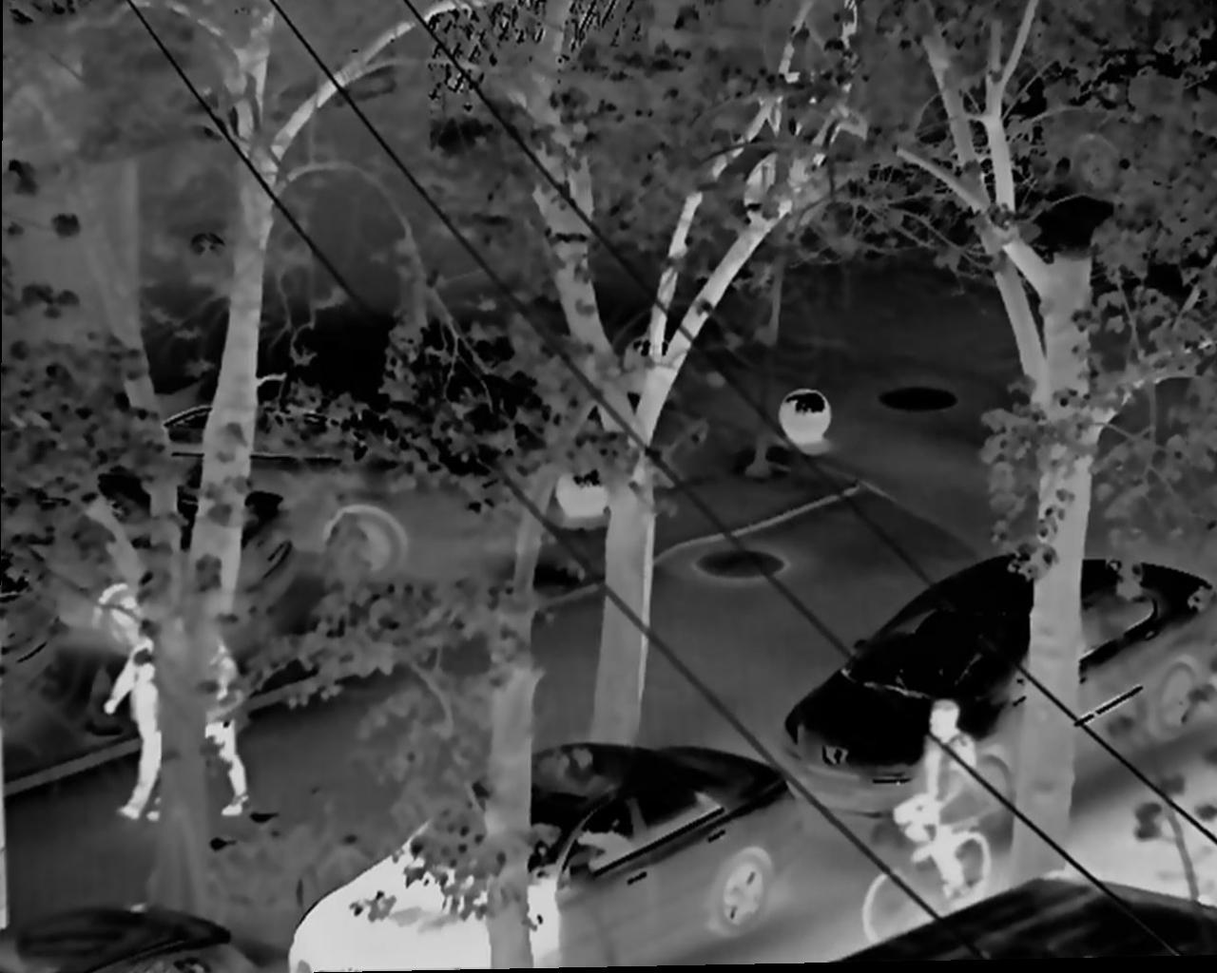person: (893, 697, 983, 904), (170, 624, 254, 834), (103, 614, 169, 814)
